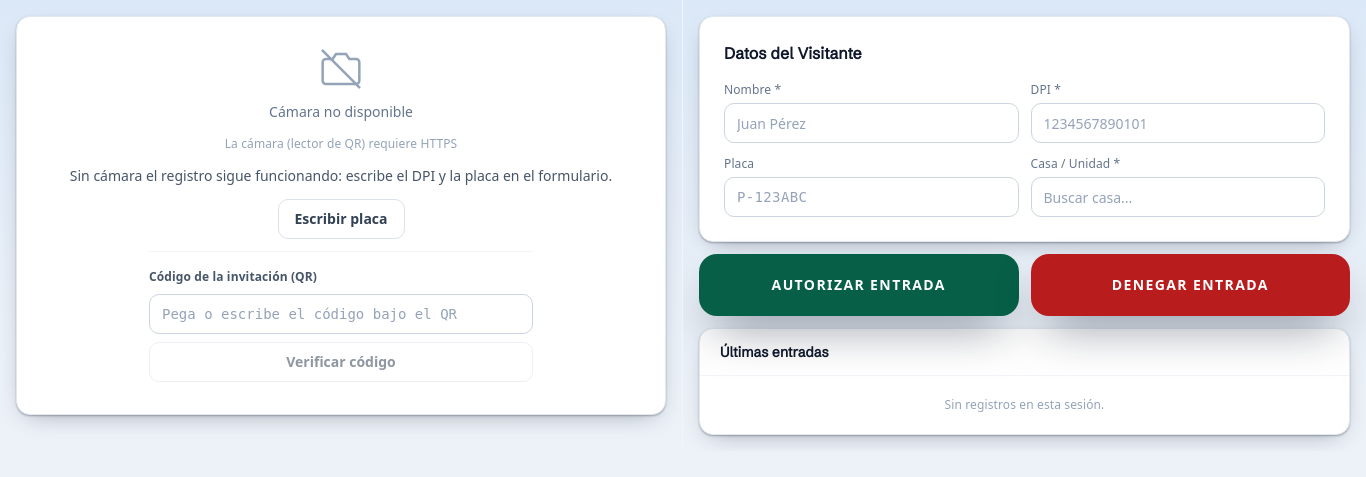
Scenario: GaritaPage web sin cámara › si el servidor rechaza el código (vencido, agotado) el motivo queda a la vista
Type "3f2504e0-4f89-11d3-9a0c-0305e82c3301" into the field labelled "Código de la invitación (QR)" at {"x": 341, "y": 314}, box x1=149 y1=294 x2=533 y2=334
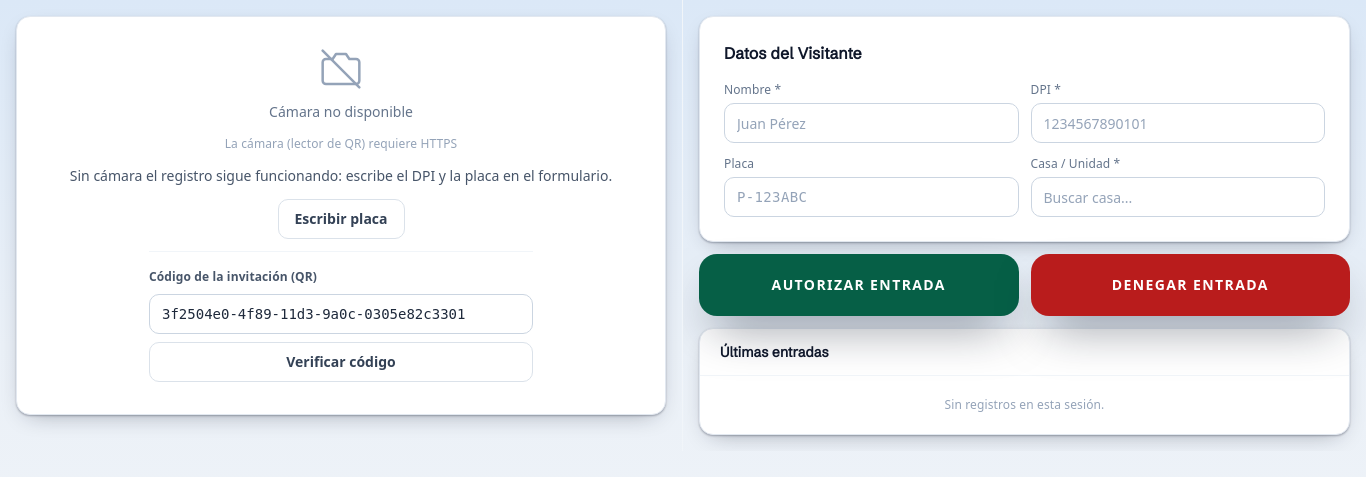
Click the button "Verificar código" at {"x": 341, "y": 362}, box x1=149 y1=342 x2=533 y2=382
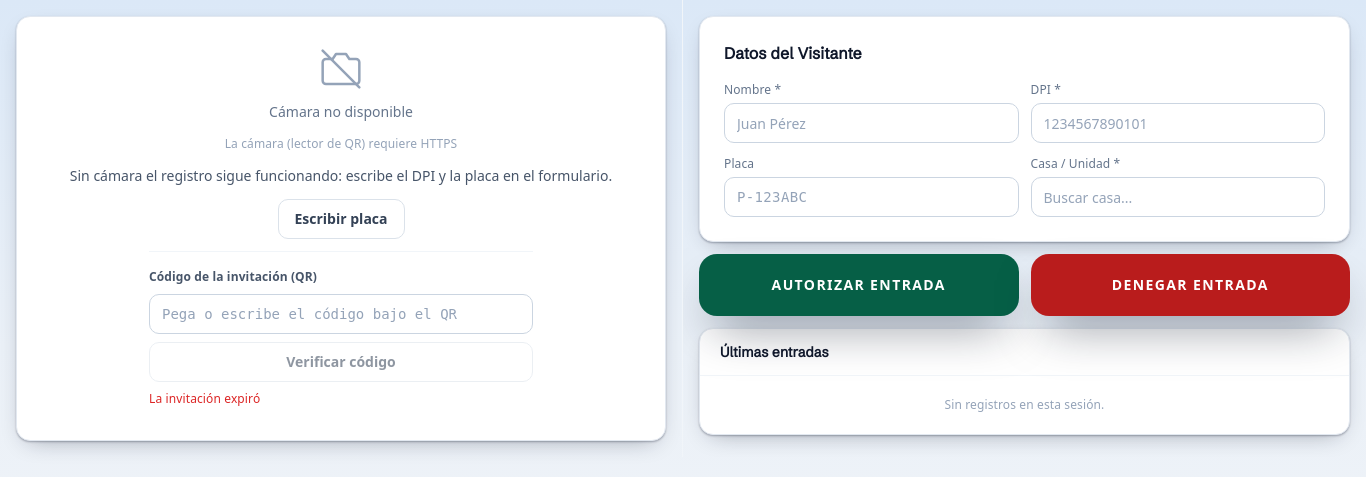
Now the message reads "La invitación expiró", box x1=149 y1=390 x2=260 y2=407
